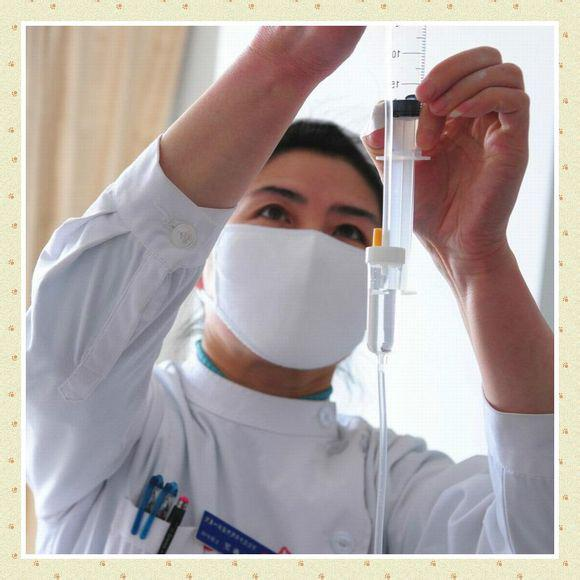OK: (209, 169, 400, 360)
